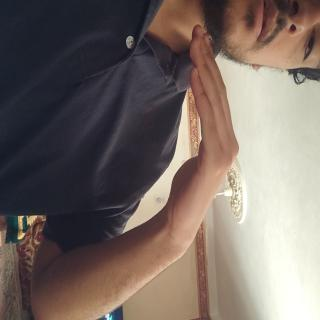HAA: (21, 104, 204, 234)
